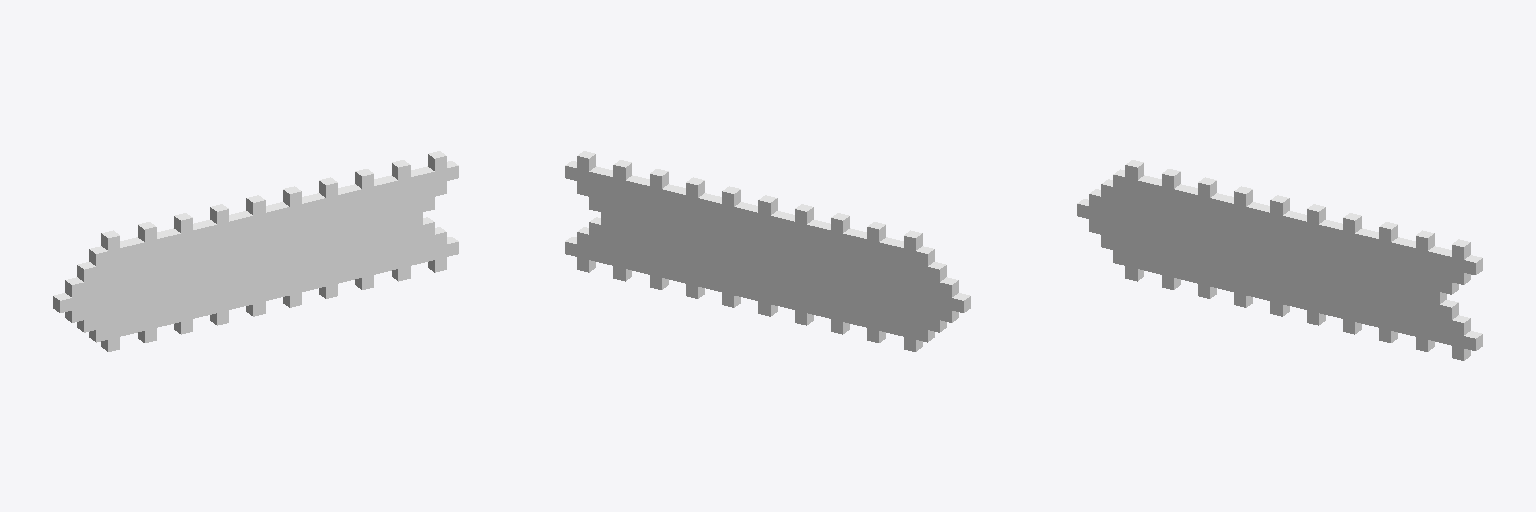
The model's file is bar-11.obj.
The picture shows the model from 3 angles: view 1: azimuth 30°, elevation 25°; view 2: azimuth 150°, elevation 25°; view 3: azimuth 330°, elevation 25°; orthographic projection.
Visible parts, largest first — view 1: object 1; view 2: object 1; view 3: object 1.
Boxes of the visible parts, x1=… form: object 1: x1=53, y1=151, x2=458, y2=351; object 1: x1=565, y1=151, x2=970, y2=351; object 1: x1=1077, y1=160, x2=1482, y2=360.
Size of the model in its own units: 3.3 by 0.9 by 0.1.